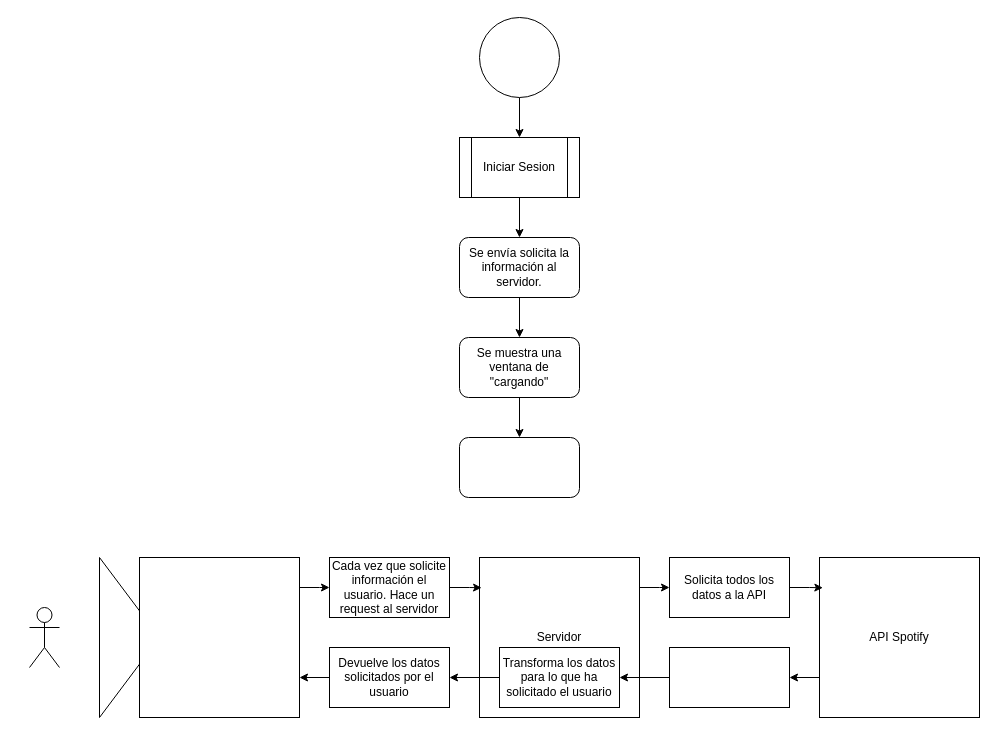
Image size: 997x735. Some labels were removed from this diagram. Here are the shapes that lost their labels. From the top down, the centre of each, then its label:
[519,57]: Inicio
[519,467]: Se muestra la información en la interfaz
[44,637]: USUARIO
[219,637]: Cliente (hay varios)
[729,677]: Devuelve los datos solicitados
